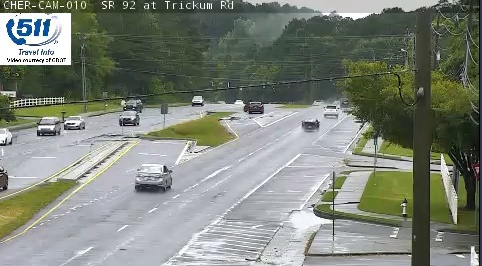car: (134, 164, 172, 188), (301, 118, 319, 132)
